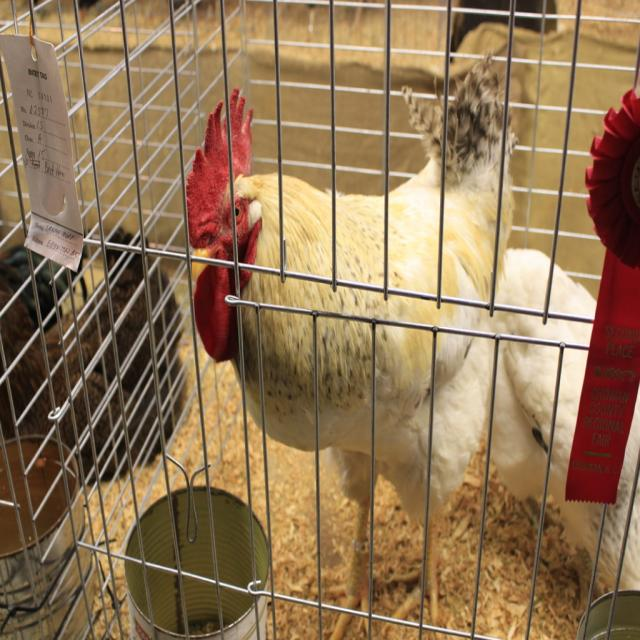Chicken: (167, 58, 566, 620)
